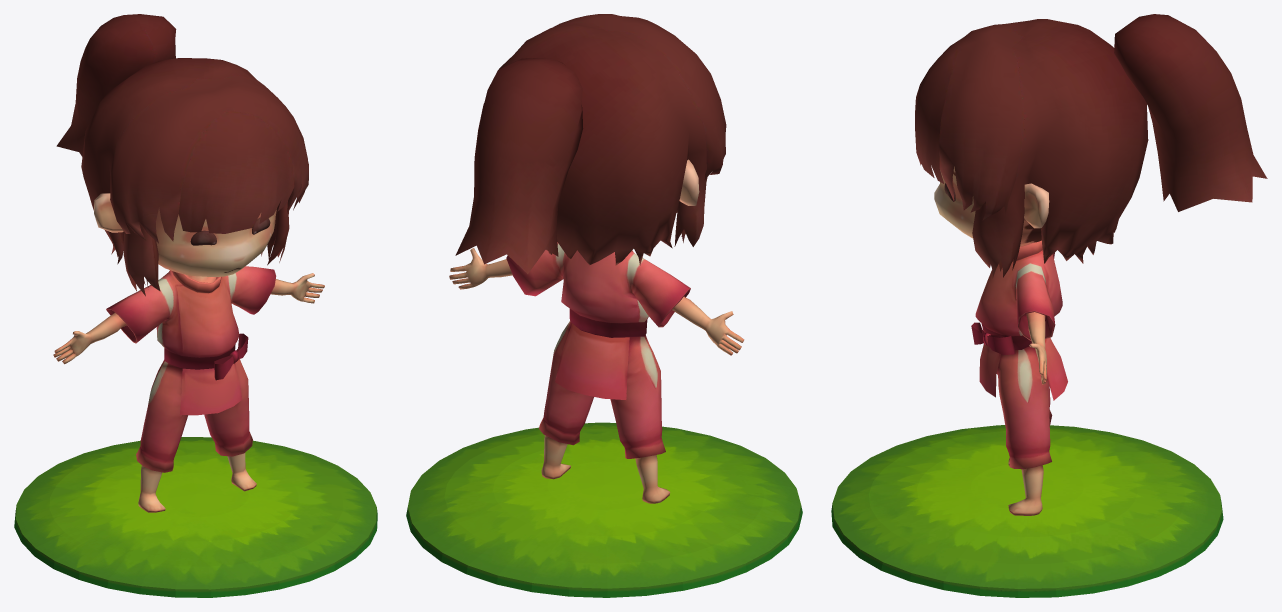
File: spirited_away_senchihiro.glb
3 views of the same model, side by side, from view 1: azimuth 30°, elevation 25°; view 2: azimuth 150°, elevation 25°; view 3: azimuth 270°, elevation 25° (orthographic). The views are drawn at different scales.
Parts seen in each view (by area): view 1: Object_2, Object_3, Object_4; view 2: Object_3, Object_2, Object_4; view 3: Object_3, Object_2, Object_4.
Boxes of the visible parts, bbox=[...] form: Object_2: bbox=[14, 437, 377, 597]; Object_3: bbox=[56, 14, 308, 296]; Object_4: bbox=[53, 193, 324, 512]; Object_3: bbox=[455, 14, 726, 273]; Object_2: bbox=[406, 422, 802, 597]; Object_4: bbox=[449, 159, 744, 503]; Object_3: bbox=[915, 14, 1267, 278]; Object_2: bbox=[831, 425, 1223, 597]; Object_4: bbox=[934, 166, 1067, 515].
Size of the model in its own units: 4.64 by 6.46 by 5.16.
Materials: 3 (3 with a texture image).
